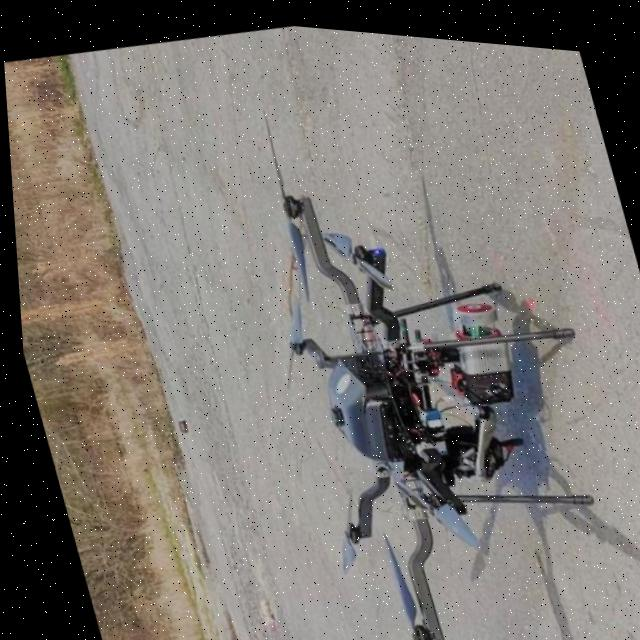drones: (187, 31, 640, 640)
